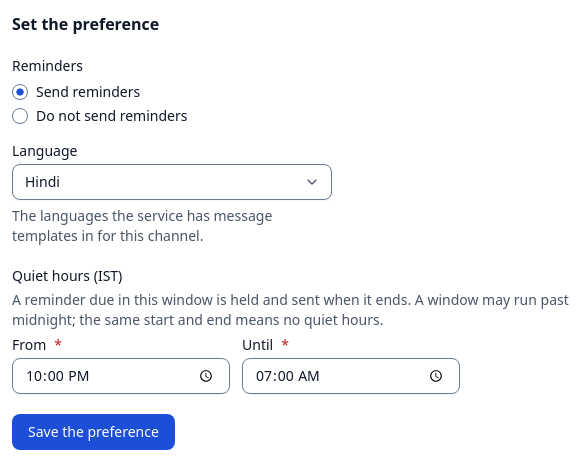
PreferenceForm › posts every field and says what was saved
Click the radio button named "Do not send reminders" next to "Do not send reminders" at (20, 116), box [12, 108, 28, 124]
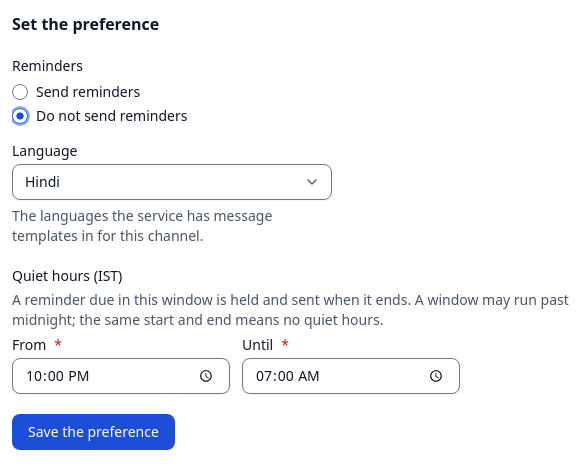
Select "English" in the dropdown labelled "Language" at (172, 182), box [12, 164, 332, 200]
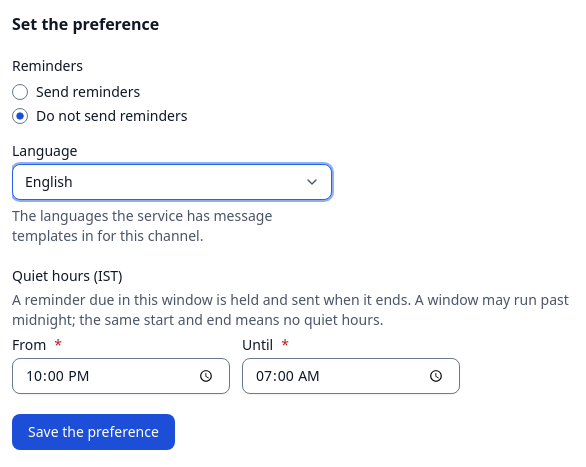
Click the button "Save the preference" at (93, 432), box [12, 414, 175, 450]
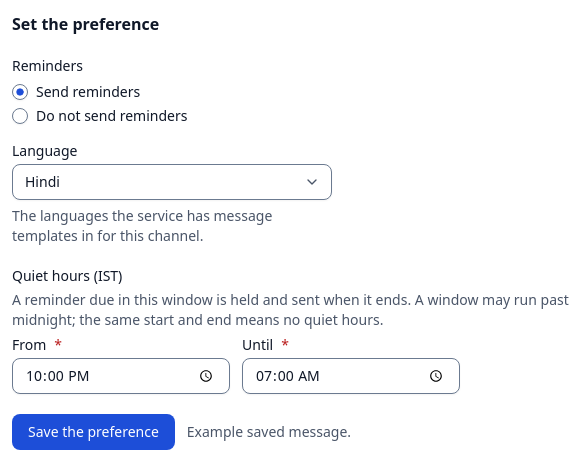
Now the message reads "Example saved message.", box [187, 422, 351, 441]
